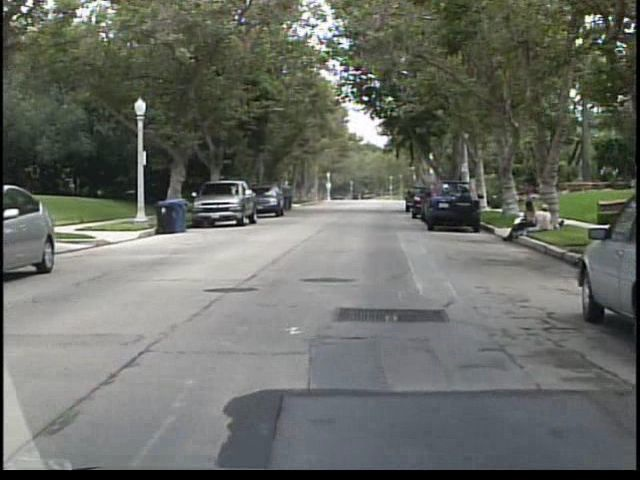person: (504, 198, 540, 243), (531, 204, 553, 230)
